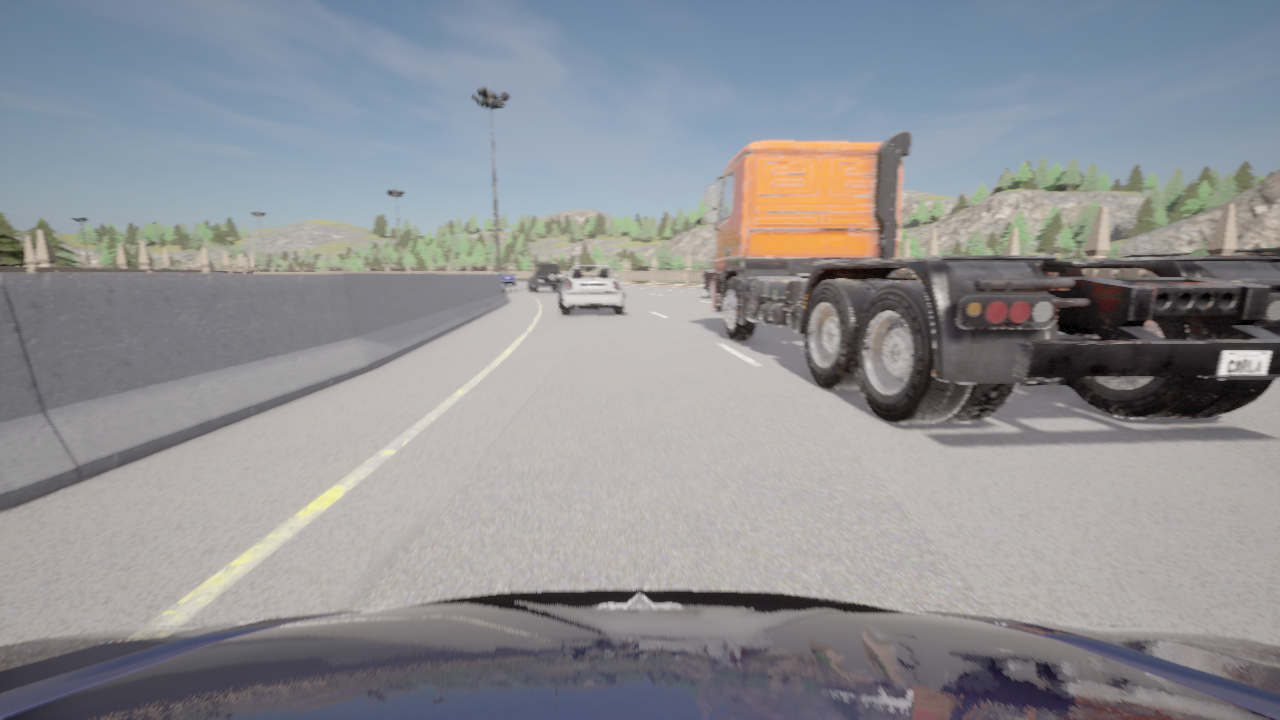cyclist: (704, 131, 1279, 423), (0, 588, 1279, 719), (557, 264, 624, 315), (898, 254, 964, 275), (528, 263, 561, 292), (703, 258, 715, 298), (493, 270, 515, 285)
